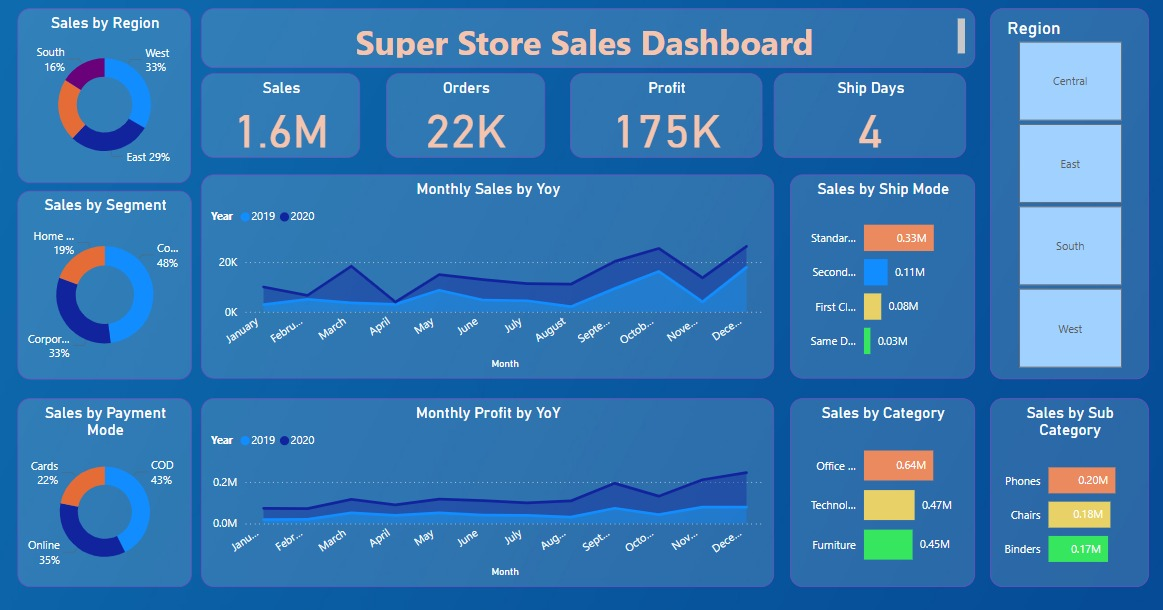

The dashboard page shown, as its layout file describes it:
{"tool":"powerbi","page":{"name":"Page 1","canvas":[1280,720],"ordinal":0},"visuals":[{"type":"clusteredBarChart","title":"Sales by Category","fields":{"Category":["SuperStore_Sales_Dataset.Category"],"Y":["Sum(SuperStore_Sales_Dataset.Sales)"]},"box":[867.1,484.3,202.9,207.1],"z":0},{"type":"clusteredBarChart","title":"Sales by Sub Category","fields":{"Y":["Sum(SuperStore_Sales_Dataset.Sales)"],"Category":["SuperStore_Sales_Dataset.Sub-Category"]},"box":[1087.1,484.3,174.3,207.1],"z":1000},{"type":"clusteredBarChart","title":"Sales by Ship Mode","fields":{"Y":["Sum(SuperStore_Sales_Dataset.Sales)"],"Category":["SuperStore_Sales_Dataset.Ship Mode"]},"box":[867.1,238.6,202.9,224.3],"z":2000},{"type":"stackedAreaChart","title":"Monthly Sales by Yoy ","fields":{"Category":["SuperStore_Sales_Dataset.Order Date.Variation.Date Hierarchy.Month","SuperStore_Sales_Dataset.Order Date.Variation.Date Hierarchy.Day"],"Series":["SuperStore_Sales_Dataset.Order Date.Variation.Date Hierarchy.Year"],"Y":["Sum(SuperStore_Sales_Dataset.Profit)"]},"box":[221.4,238.6,628.6,224.3],"z":3000},{"type":"stackedAreaChart","title":"Monthly Profit by YoY","fields":{"Y":["Sum(SuperStore_Sales_Dataset.Sales)"],"Category":["SuperStore_Sales_Dataset.Order Date.Variation.Date Hierarchy.Month","SuperStore_Sales_Dataset.Order Date.Variation.Date Hierarchy.Day"],"Series":["SuperStore_Sales_Dataset.Order Date.Variation.Date Hierarchy.Year"]},"box":[221.4,484.3,628.6,207.1],"z":4000},{"type":"donutChart","title":"Sales by Segment","fields":{"Category":["SuperStore_Sales_Dataset.Segment"],"Y":["Sum(SuperStore_Sales_Dataset.Sales)"]},"box":[18.6,257.1,191.4,207.1],"z":5000},{"type":"donutChart","title":" Sales by Payment Mode","fields":{"Y":["Sum(SuperStore_Sales_Dataset.Sales)"],"Category":["SuperStore_Sales_Dataset.Payment Mode"]},"box":[18.6,484.3,191.4,207.1],"z":6000},{"type":"slicer","fields":{"Values":["SuperStore_Sales_Dataset.Region"]},"box":[1087.1,41.4,174.3,422.9],"z":7000},{"type":"textbox","box":[221.4,41.4,848.6,75.7],"z":8000},{"type":"card","title":"Sales","fields":{"Values":["Sum(SuperStore_Sales_Dataset.Sales)"]},"box":[221.4,127.1,174.3,92.9],"z":9000},{"type":"card","title":"Orders","fields":{"Values":["Sum(SuperStore_Sales_Dataset.Quantity)"]},"box":[424.3,127.1,174.3,92.9],"z":10000},{"type":"card","title":"Profit","fields":{"Values":["Sum(SuperStore_Sales_Dataset.Profit)"]},"box":[625.7,127.1,211.4,92.9],"z":11000},{"type":"card","title":"Ship Days","fields":{"Values":["Avg(SuperStore_Sales_Dataset.AvgDelivery)"]},"box":[850,127.1,211.4,92.9],"z":12000},{"type":"donutChart","title":"Sales by Region","fields":{"Category":["SuperStore_Sales_Dataset.Region"],"Y":["Sum(SuperStore_Sales_Dataset.Sales)"]},"box":[18.6,41.4,191.4,207.1],"z":13000}]}

Visuals, with their boxes on the page's 1280x720 design canvas (x1, y1, x2, y2). These are canvas units, not pixel positions in the 1163x610 screenshot, which may show the page scaled, cropped or inside an application window:
"Sales by Category" clusteredBarChart: x1=867 y1=484 x2=1070 y2=691
"Sales by Sub Category" clusteredBarChart: x1=1087 y1=484 x2=1261 y2=691
"Sales by Ship Mode" clusteredBarChart: x1=867 y1=239 x2=1070 y2=463
"Monthly Sales by Yoy " stackedAreaChart: x1=221 y1=239 x2=850 y2=463
"Monthly Profit by YoY" stackedAreaChart: x1=221 y1=484 x2=850 y2=691
"Sales by Segment" donutChart: x1=19 y1=257 x2=210 y2=464
" Sales by Payment Mode" donutChart: x1=19 y1=484 x2=210 y2=691
slicer - SuperStore_Sales_Dataset.Region: x1=1087 y1=41 x2=1261 y2=464
textbox: x1=221 y1=41 x2=1070 y2=117
"Sales" card: x1=221 y1=127 x2=396 y2=220
"Orders" card: x1=424 y1=127 x2=599 y2=220
"Profit" card: x1=626 y1=127 x2=837 y2=220
"Ship Days" card: x1=850 y1=127 x2=1061 y2=220
"Sales by Region" donutChart: x1=19 y1=41 x2=210 y2=248
